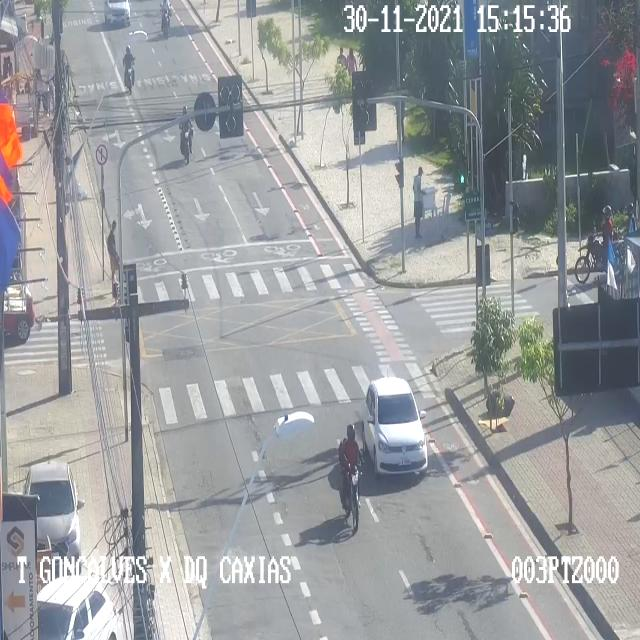Car: (363, 377, 427, 474), (24, 463, 80, 572), (37, 575, 117, 639), (107, 1, 135, 26)
Motorcycle: (575, 204, 623, 282), (338, 423, 364, 531), (179, 105, 193, 163), (122, 44, 134, 94), (158, 0, 172, 33)
